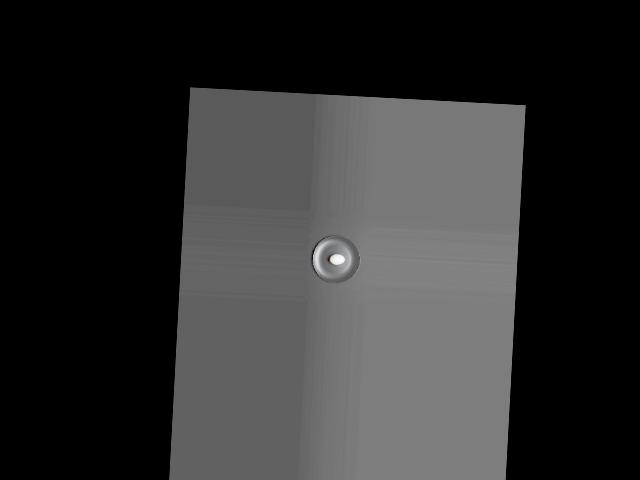egg: (329, 253, 344, 265)
